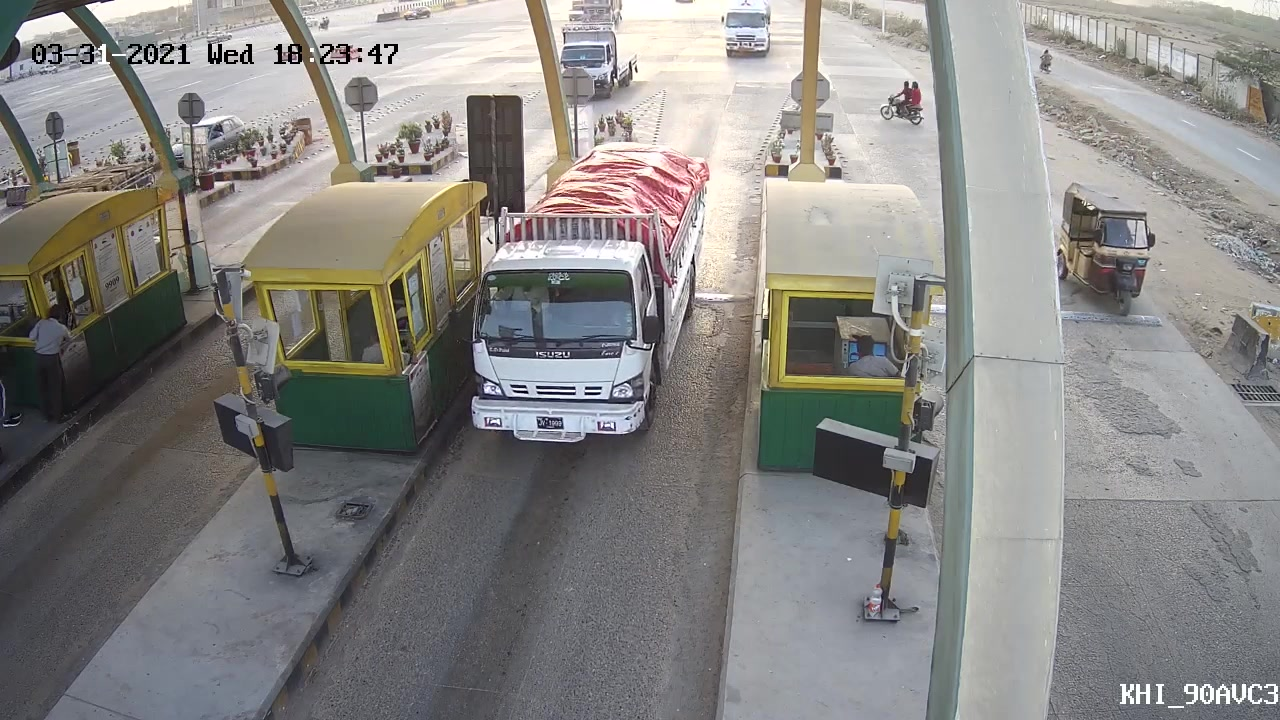F3: (455, 141, 717, 451)
